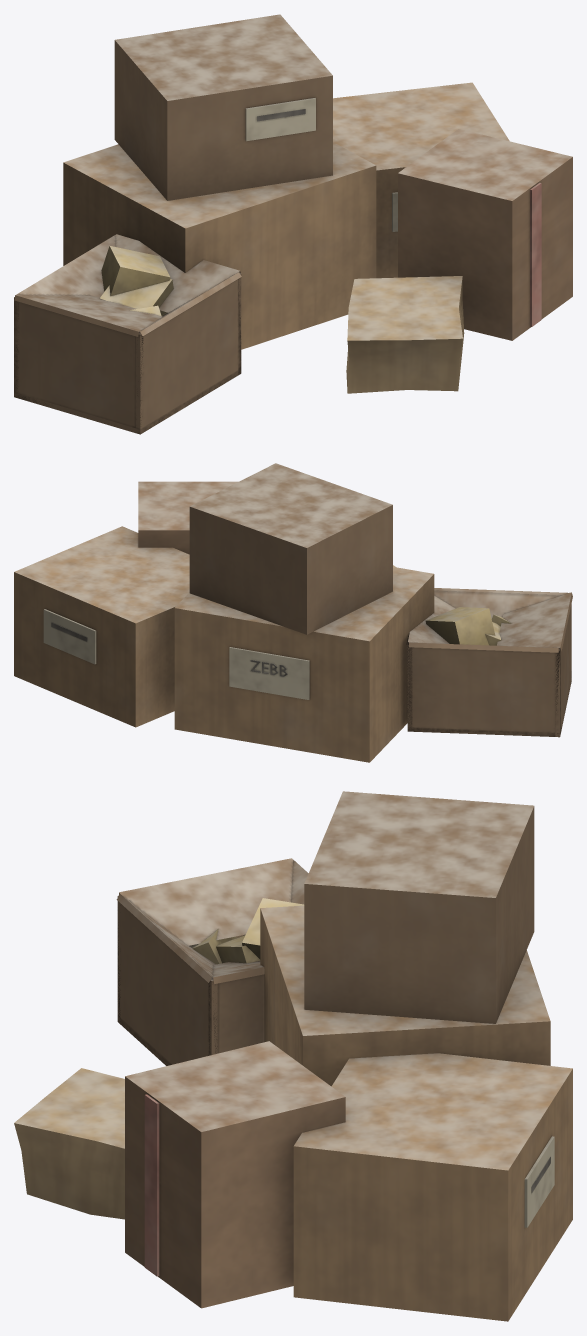
File: box_pile_small.fbx
The picture shows the model from 3 angles, top to bottom: view 1: azimuth 30°, elevation 25°; view 2: azimuth 150°, elevation 25°; view 3: azimuth 270°, elevation 25°; orthographic projection. The views are drawn at different scales.
Parts seen in each view (by area): view 1: Body; view 2: Body; view 3: Body.
Part boxes in pixels (x1,y1,x2,y2): Body: (14,14,572,434); Body: (14,463,572,762); Body: (14,791,572,1321).
Size of the model in its own units: 5.7 by 2.45 by 4.02.
Materials: 1 (1 with a texture image).
